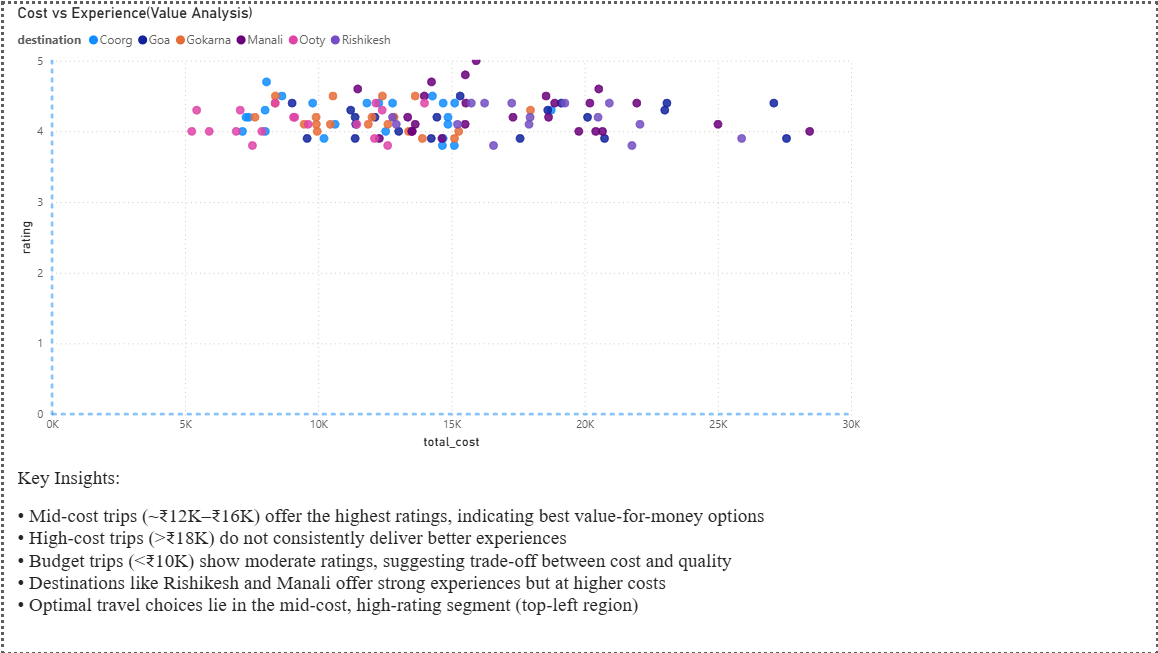

What the dashboard file says about the page in this screenshot:
{"tool":"powerbi","page":{"name":"Page 3","canvas":[1280,720],"ordinal":2},"visuals":[{"type":"scatterChart","title":"Cost vs Experience(Value Analysis)","fields":{"X":["india_travel_dataset.total_cost"],"Y":["india_travel_dataset.rating"],"Series":["india_travel_dataset.destination"]},"box":[10.2,0,945.8,498.3],"z":0}]}

Visuals, with their boxes in screenshot pixels (x1, y1, x2, y2), scaled from the page's 1280x720 canvas onto the 1158x653 screenshot:
"Cost vs Experience(Value Analysis)" scatterChart: 9 0 865 452
